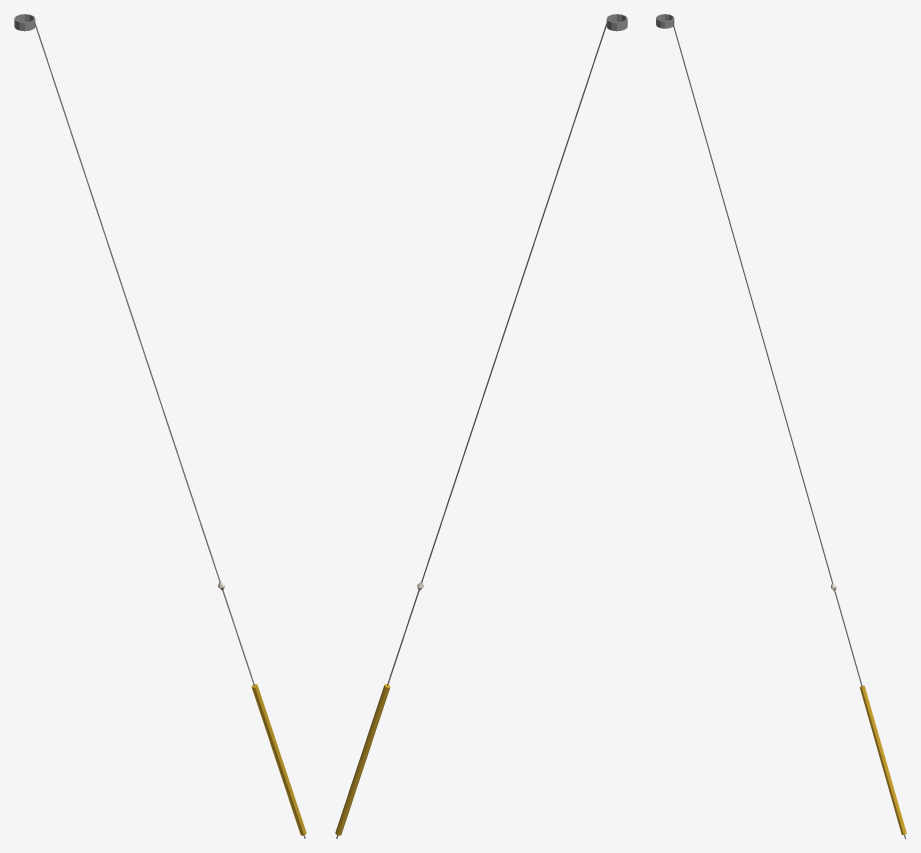
Rendered from SM_Street_PoleGuy_01.gltf.
3 views of the same model, side by side, from view 1: azimuth 30°, elevation 25°; view 2: azimuth 150°, elevation 25°; view 3: azimuth 330°, elevation 25° (orthographic). The views are drawn at different scales.
Visible parts, largest first — view 1: SM_Street_PoleGuy_01; view 2: SM_Street_PoleGuy_01; view 3: SM_Street_PoleGuy_01.
Part boxes in pixels (x1,y1,x2,y2): SM_Street_PoleGuy_01: (14, 14, 306, 838); SM_Street_PoleGuy_01: (335, 14, 627, 838); SM_Street_PoleGuy_01: (656, 14, 906, 838).
Bounding box in the file's own units: 3.65 × 10.68 × 0.2306.
1 material, 1 textured.
